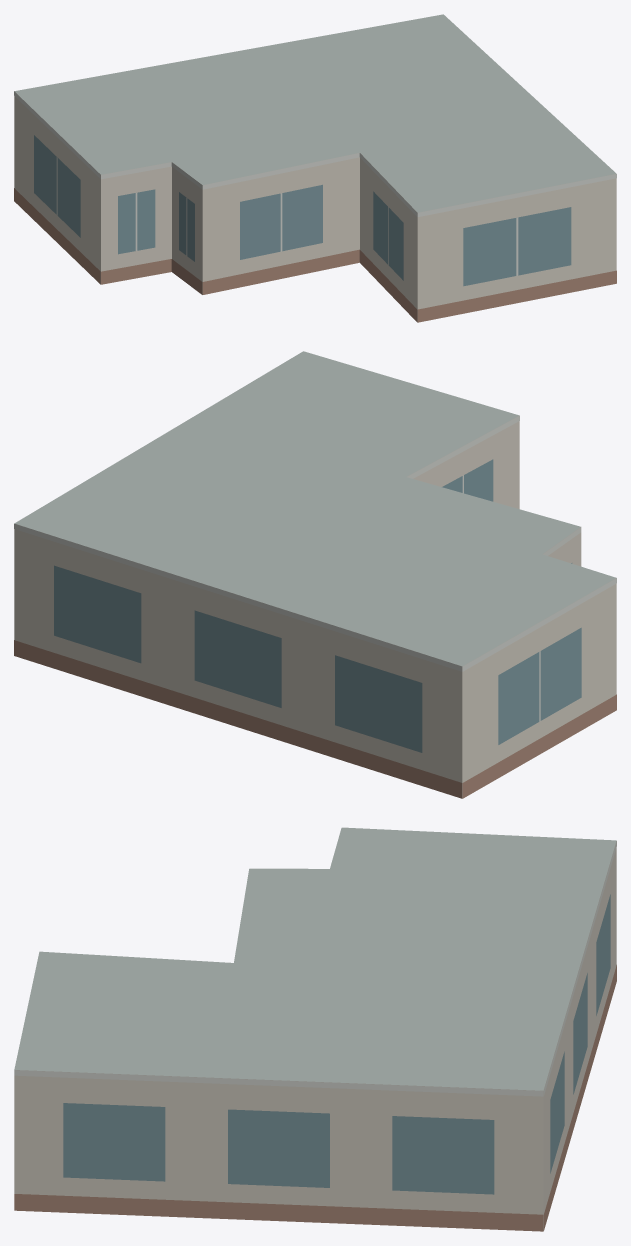
The model's file is survey-upis-32928630.glb.
3 renders of one model, top to bottom at view 1: azimuth 30°, elevation 25°; view 2: azimuth 150°, elevation 25°; view 3: azimuth 270°, elevation 25°, orthographic. The views are drawn at different scales.
Parts seen in each view (by area): view 1: survey-upis-32928630.tmp; view 2: survey-upis-32928630.tmp; view 3: survey-upis-32928630.tmp.
Boxes of the visible parts, box(x1,y1,x2,y2) form: survey-upis-32928630.tmp: box(14, 14, 616, 322); survey-upis-32928630.tmp: box(14, 351, 616, 798); survey-upis-32928630.tmp: box(14, 827, 616, 1231).
Bounding box in the file's own units: 12.26 × 3.05 × 11.85.
